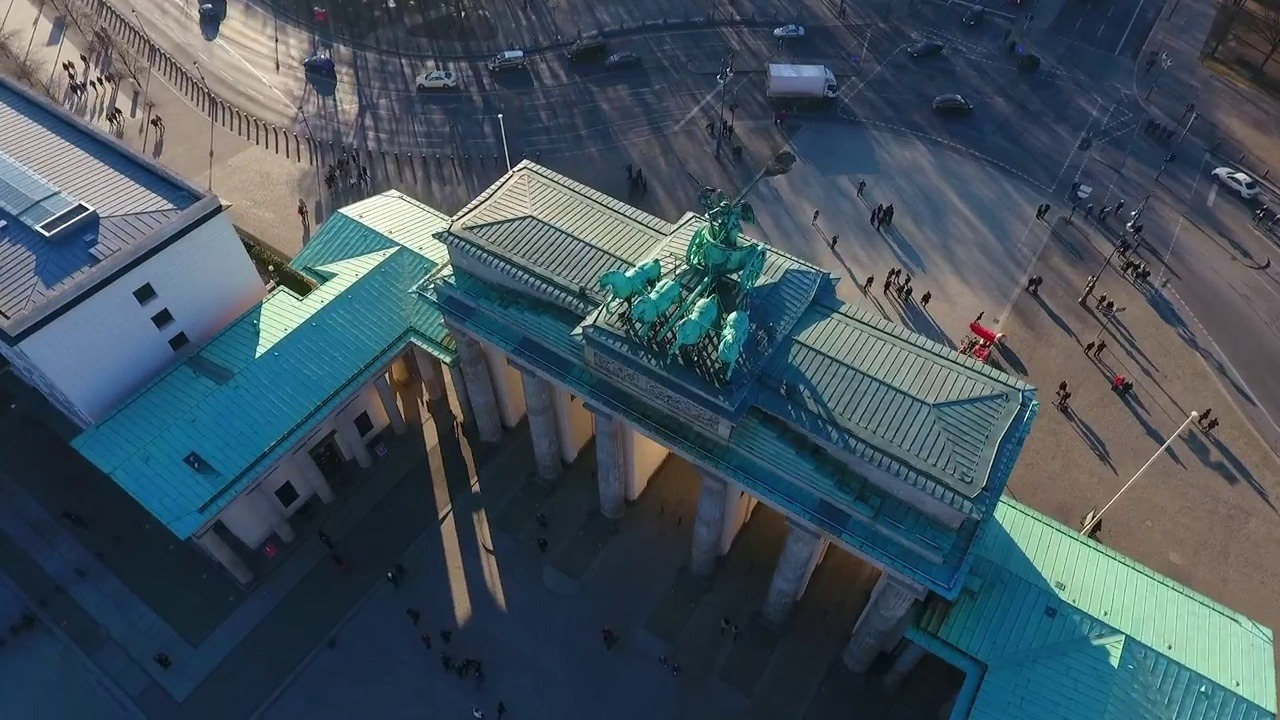car: (1208, 157, 1265, 205), (411, 66, 462, 94)
truck: (762, 54, 845, 107)
